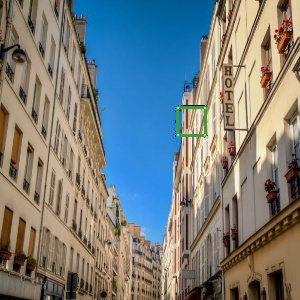square: (175, 105, 208, 137)
